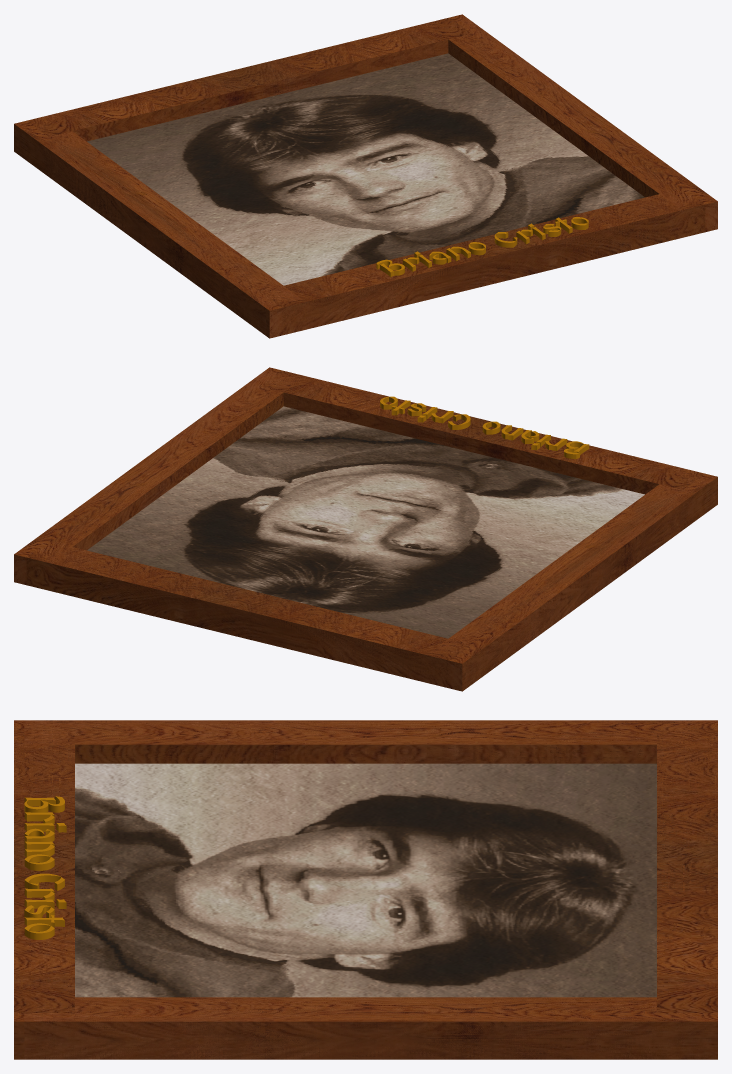
File: monkframe2.glb
3 views of the same model, one above another, from view 1: azimuth 30°, elevation 25°; view 2: azimuth 150°, elevation 25°; view 3: azimuth 270°, elevation 25° (orthographic). The views are drawn at different scales.
Parts seen in each view (by area): view 1: Plane, Cube, William Dafilo; view 2: Plane, Cube, William Dafilo; view 3: Plane, Cube, William Dafilo.
Part boxes in pixels (box(x1,y1,x2,y2)): Plane: box(87, 53, 644, 285); Cube: box(14, 14, 717, 338); William Dafilo: box(376, 217, 588, 277); Plane: box(87, 406, 644, 638); Cube: box(14, 367, 717, 691); William Dafilo: box(380, 396, 589, 459); Plane: box(75, 763, 656, 997); Cube: box(14, 720, 717, 1059); William Dafilo: box(24, 796, 66, 939).
Bounding box in the file's own units: 0.6936 × 0.0482 × 0.6847.
Materials: 3 (2 with a texture image).
